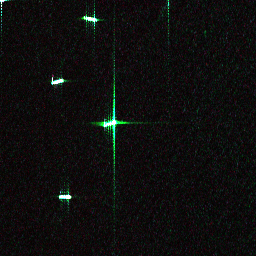ship: (101, 117, 118, 129), (50, 76, 66, 87), (81, 14, 99, 23), (57, 193, 72, 201)
